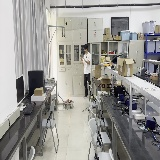fire: (67, 83, 70, 102)
